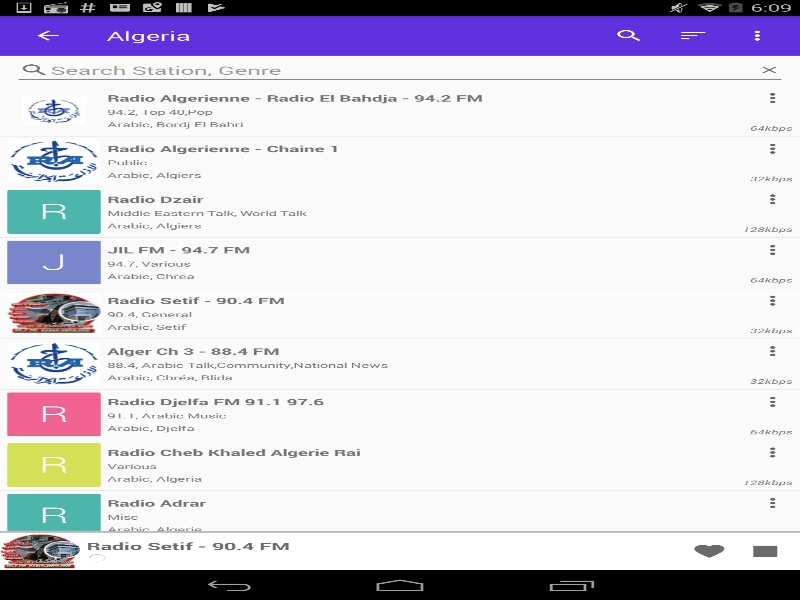Button: (10, 15, 85, 55), (681, 538, 737, 564), (737, 538, 793, 564), (752, 88, 792, 107), (752, 139, 792, 158), (752, 240, 792, 259), (752, 291, 792, 310), (752, 341, 792, 360), (752, 392, 792, 411), (752, 493, 792, 512), (752, 190, 792, 208), (752, 443, 792, 461)
Input: (13, 56, 786, 84)
